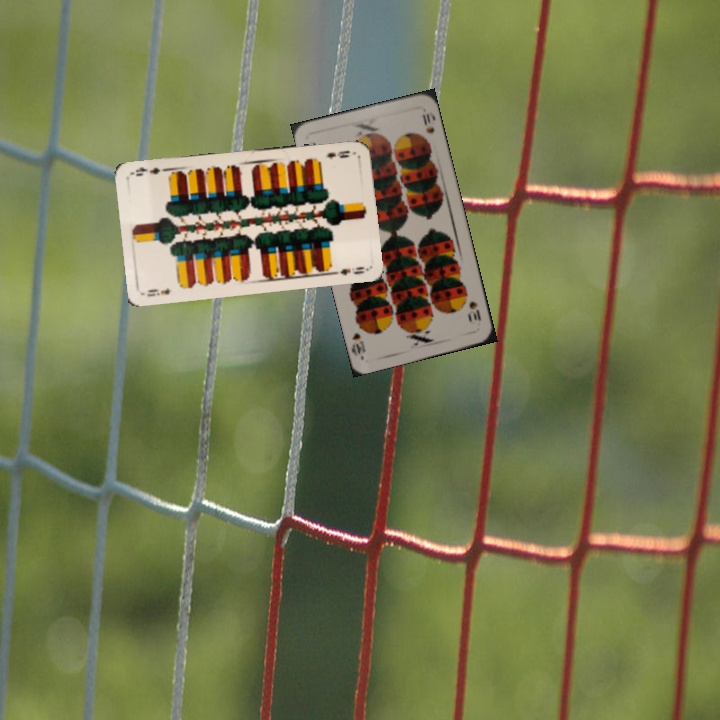E9: (143, 283, 174, 299), (322, 147, 353, 161)
S10: (465, 297, 483, 327)
